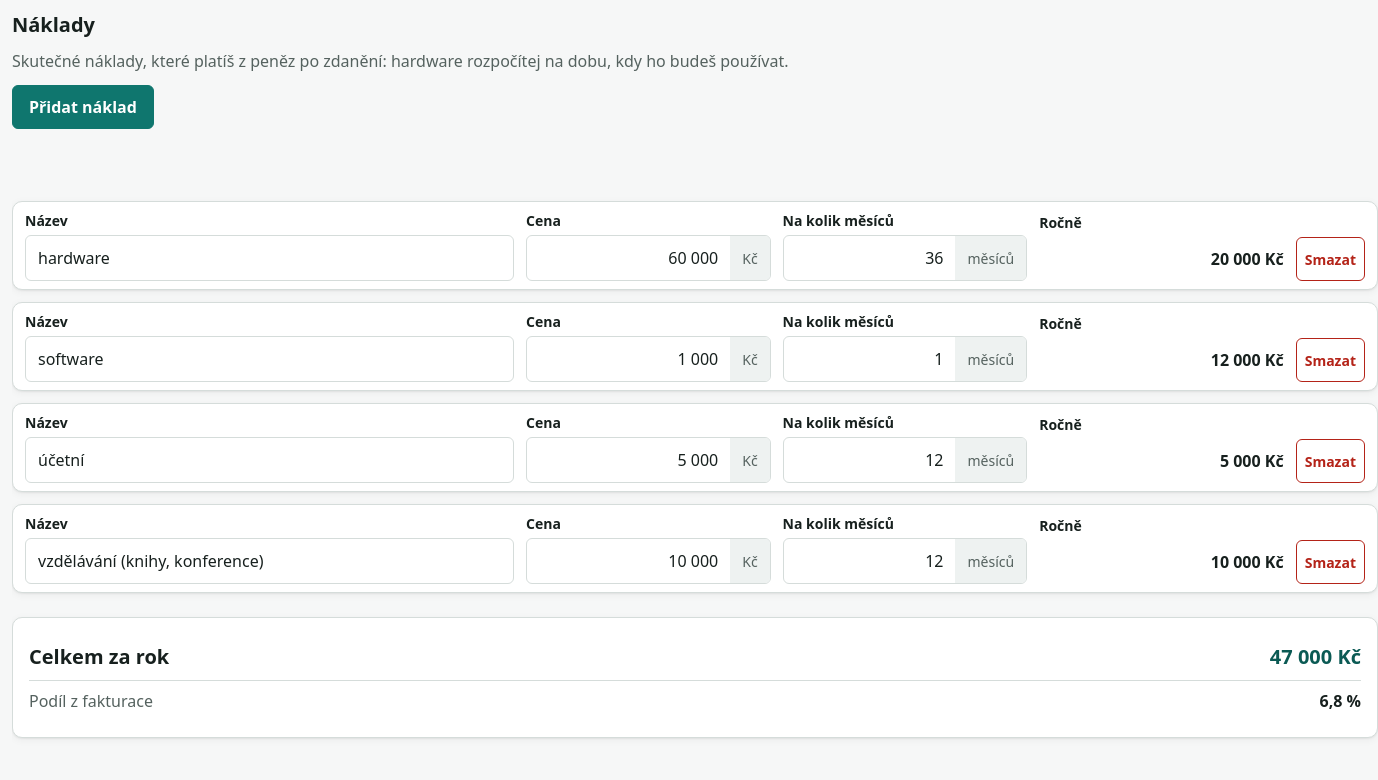
Test: CostsScreen › updates the yearly amount and the total when a price changes
The image size is (1378, 780).
Step 1. Replace the text in the field labelled "Cena" in the row of "20 000 Kč" with "120000" → coordinates (629, 258), box left=527, top=236, right=730, bottom=280
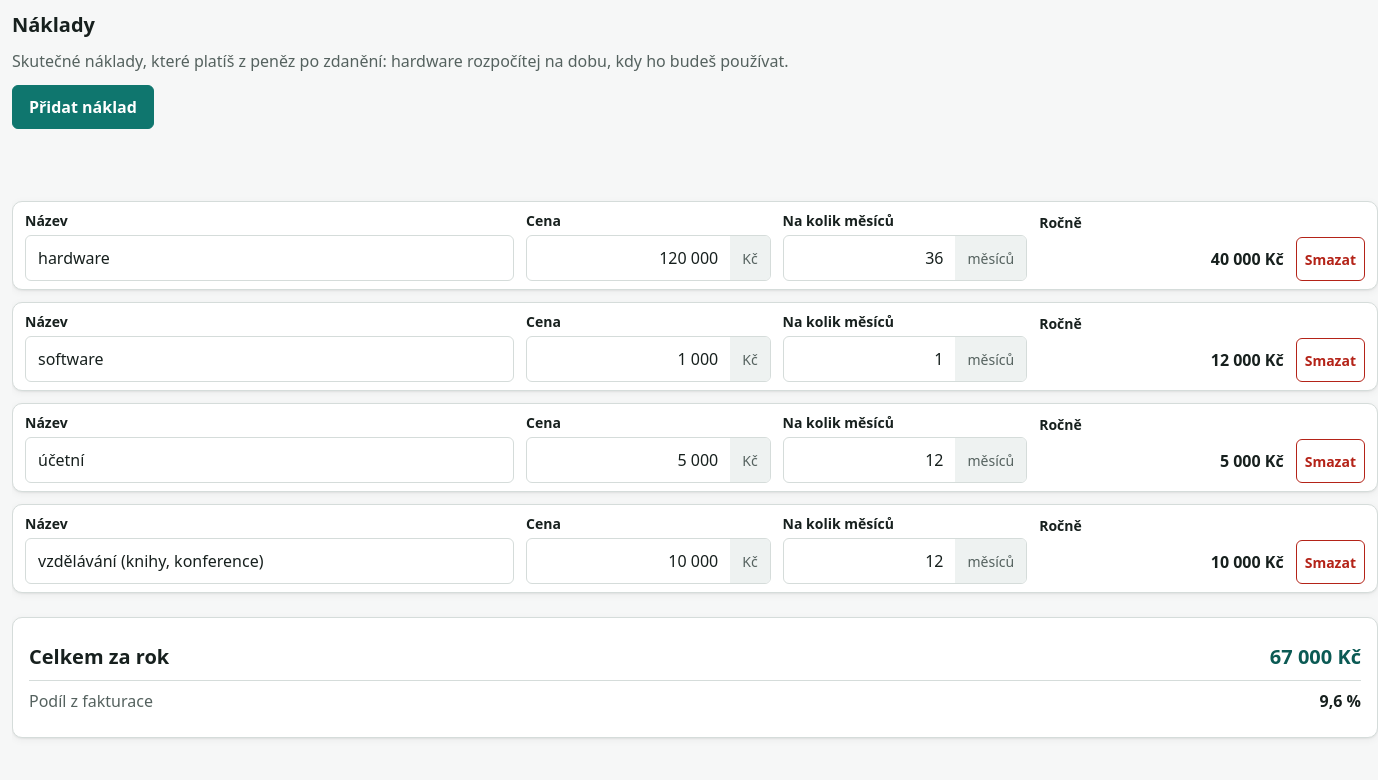
Result: the text with class "cost-yearly-value" reads "40 000 Kč" at left=1211, top=248, right=1284, bottom=270
